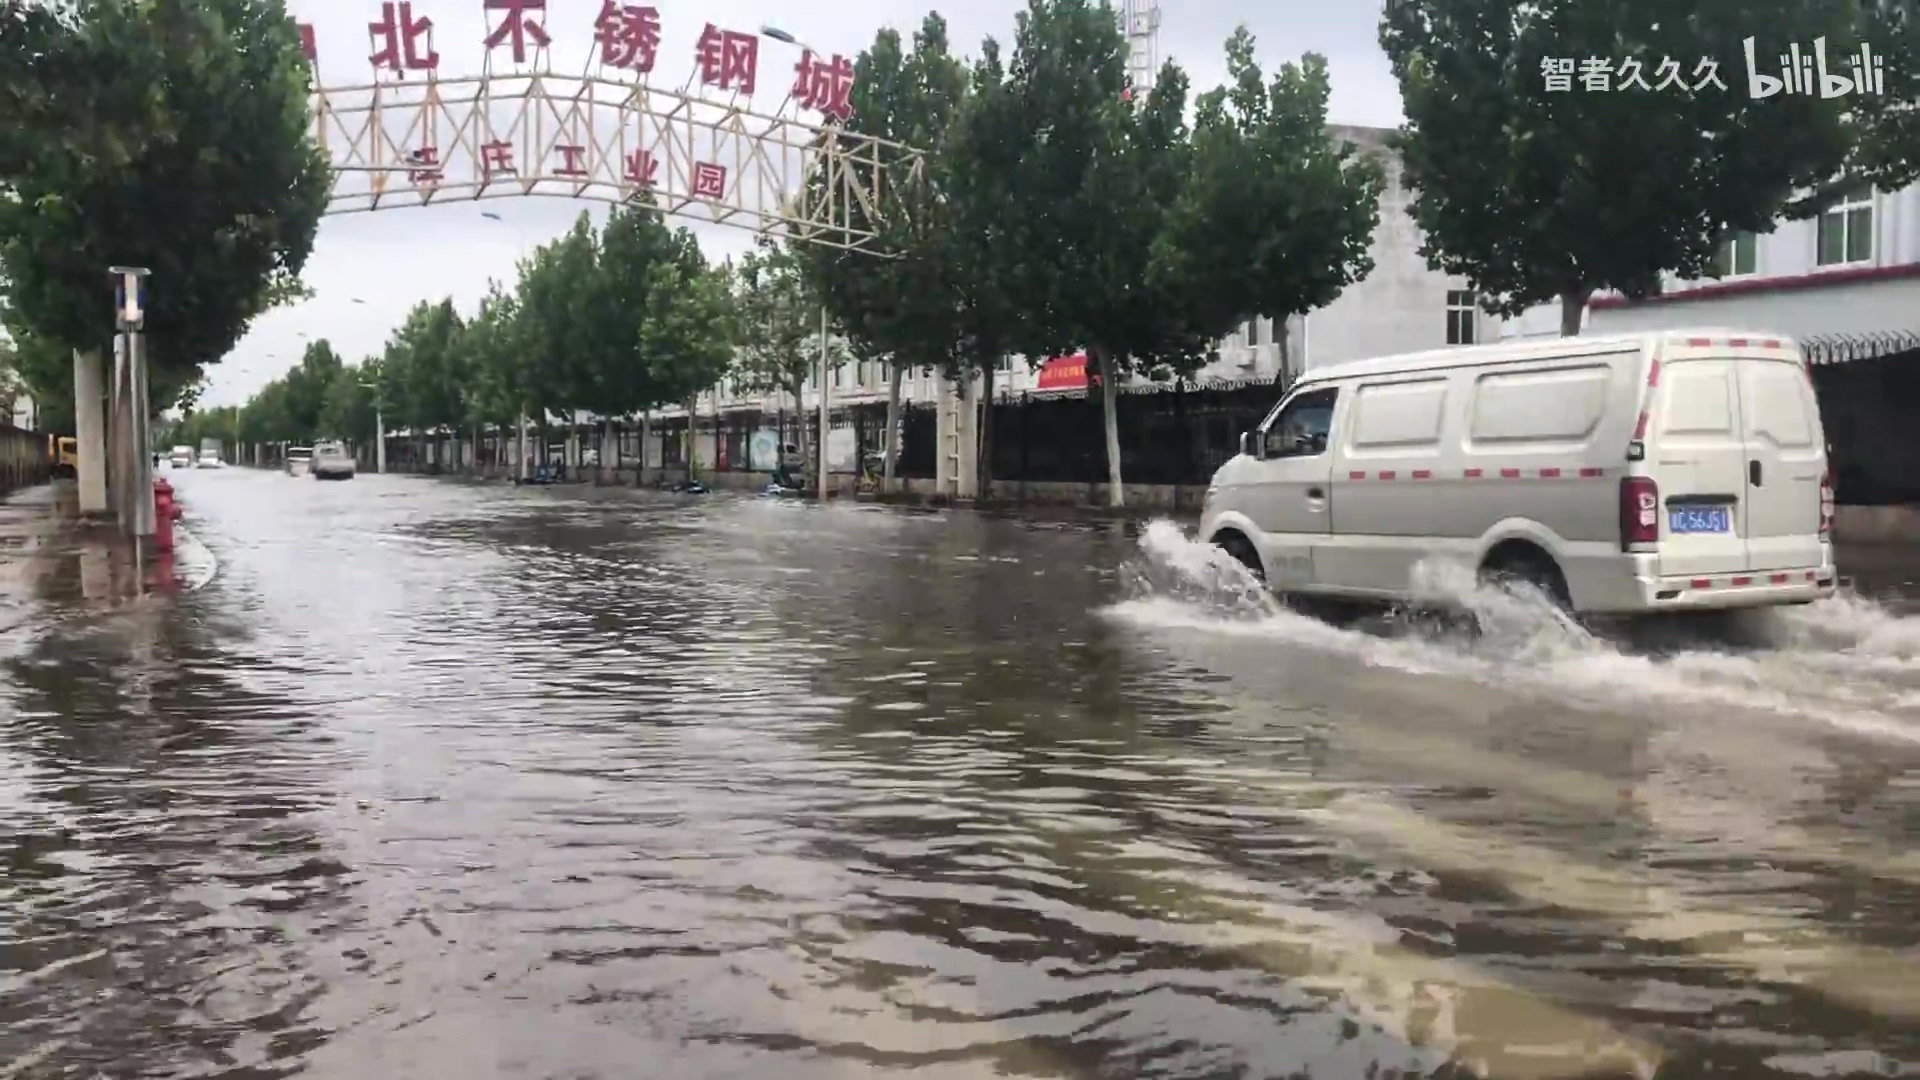puddle: (1, 534, 1920, 1080)
